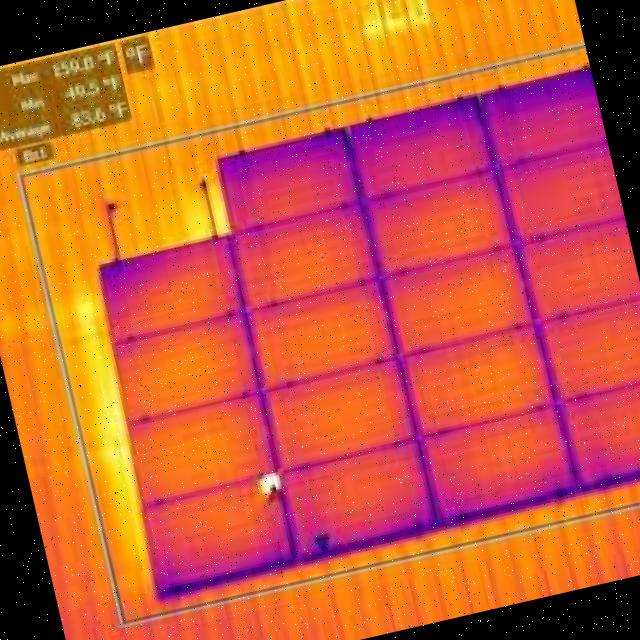Hotspot: (254, 468, 286, 499)
